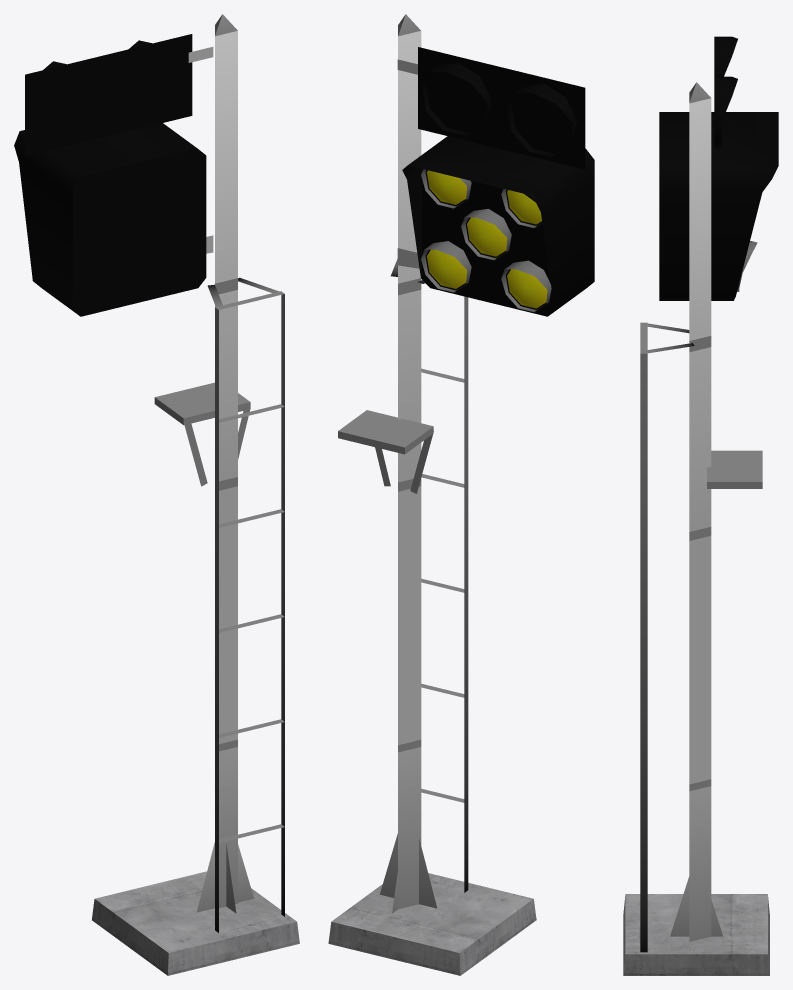
Rendered from SIGNAL_5_BAR.glb.
3 renders of one model, left to right at view 1: azimuth 30°, elevation 25°; view 2: azimuth 150°, elevation 25°; view 3: azimuth 270°, elevation 25°, orthographic. The views are drawn at different scales.
Visible parts, largest first — view 1: obj19; view 2: obj19; view 3: obj19.
Boxes of the visible parts, left/top/right/bottom form: obj19: left=14, top=14, right=299, bottom=975; obj19: left=328, top=14, right=594, bottom=975; obj19: left=623, top=36, right=778, bottom=975.
Size of the model in its own units: 3.4 by 13.02 by 2.09.
Materials: 3 (3 with a texture image).
